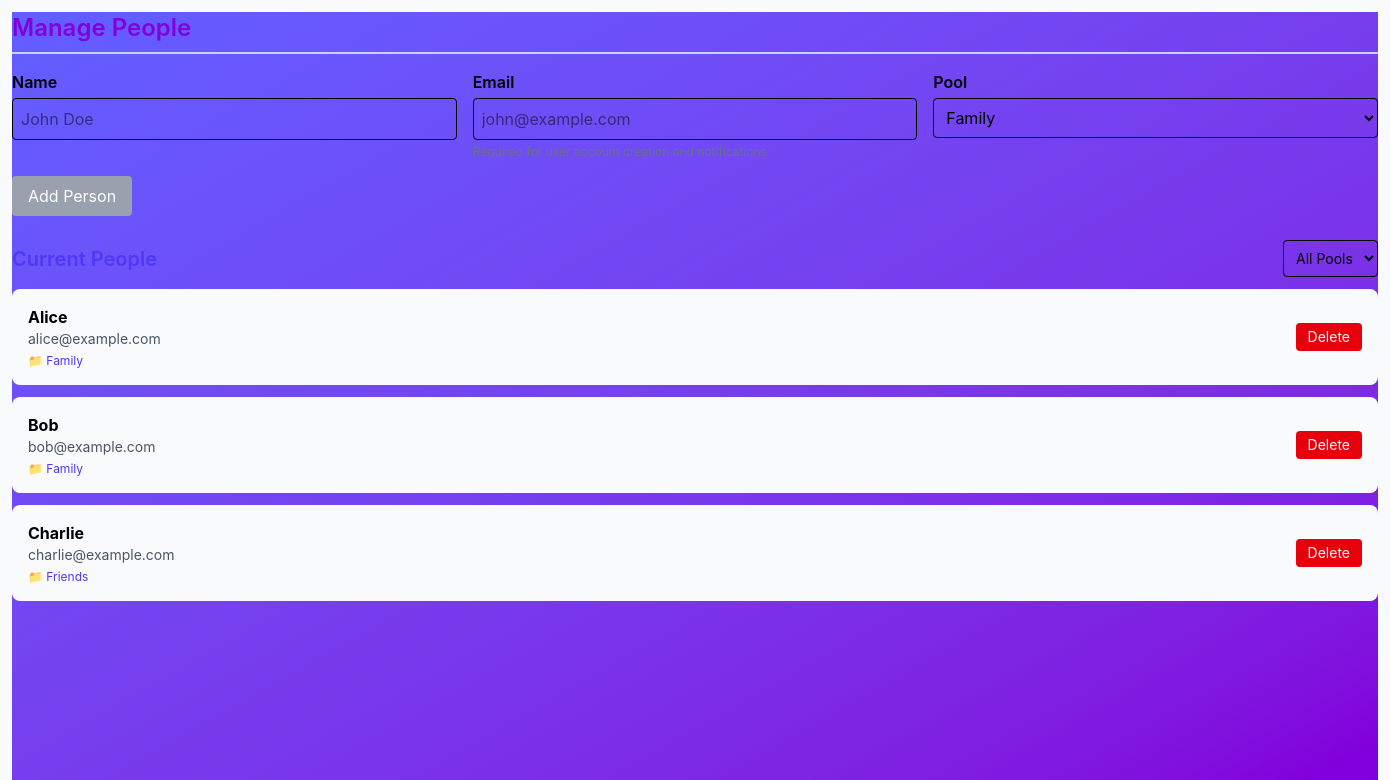
Scenario: People Management Page › filters people by pool
Expected: the text "Alice" is shown, [28,307,68,327]
Expected: the text "Charlie" is shown, [28,523,84,543]
Select "Friends" in the 2nd dropdown: x=1330, y=258 [1283,240,1378,277]
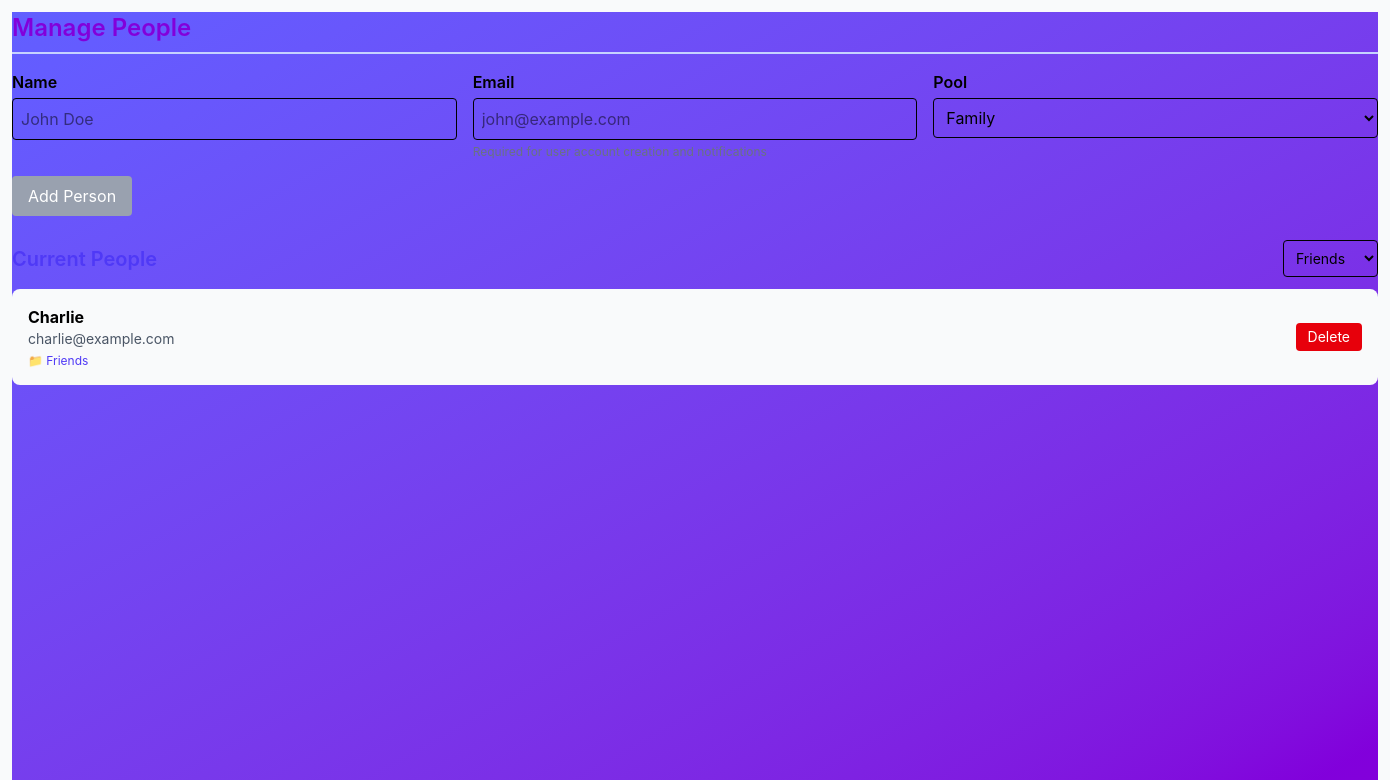
Expected: the text "Charlie" is shown, [28,307,84,327]
Expected: the text "Alice" is gone
